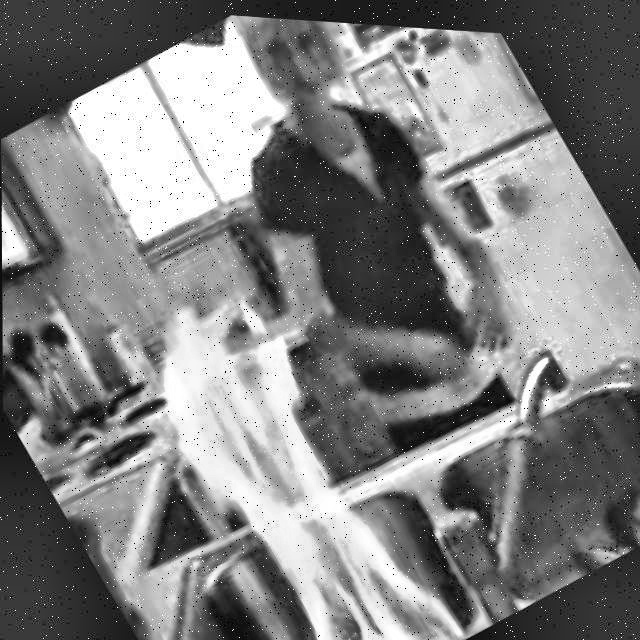Fire: (113, 259, 471, 640)
